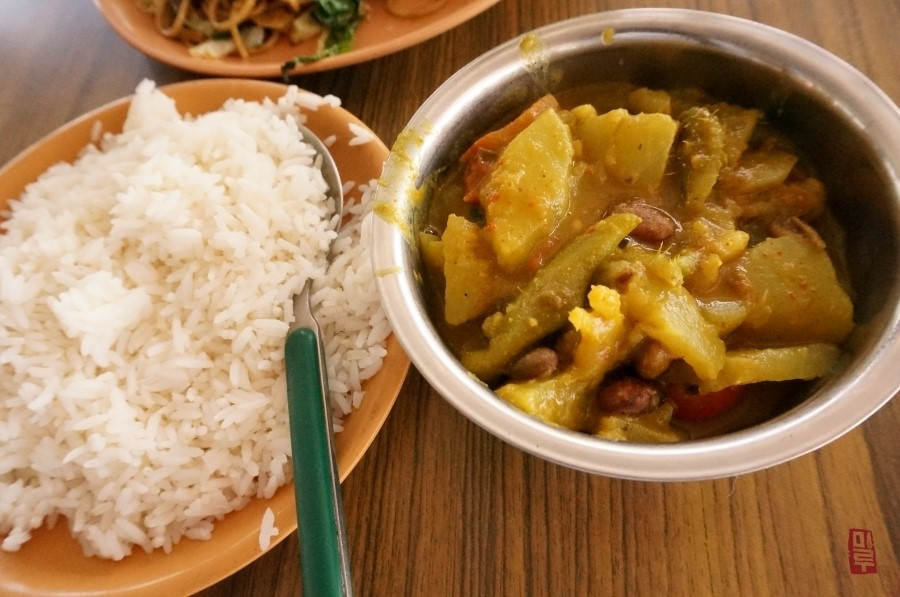plain rice: (75, 159, 229, 496)
